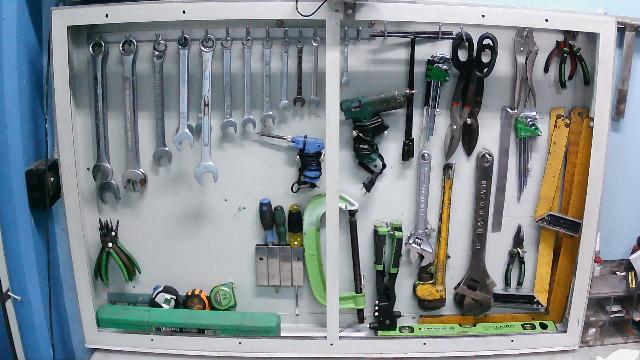meteran: (145, 279, 182, 311)
